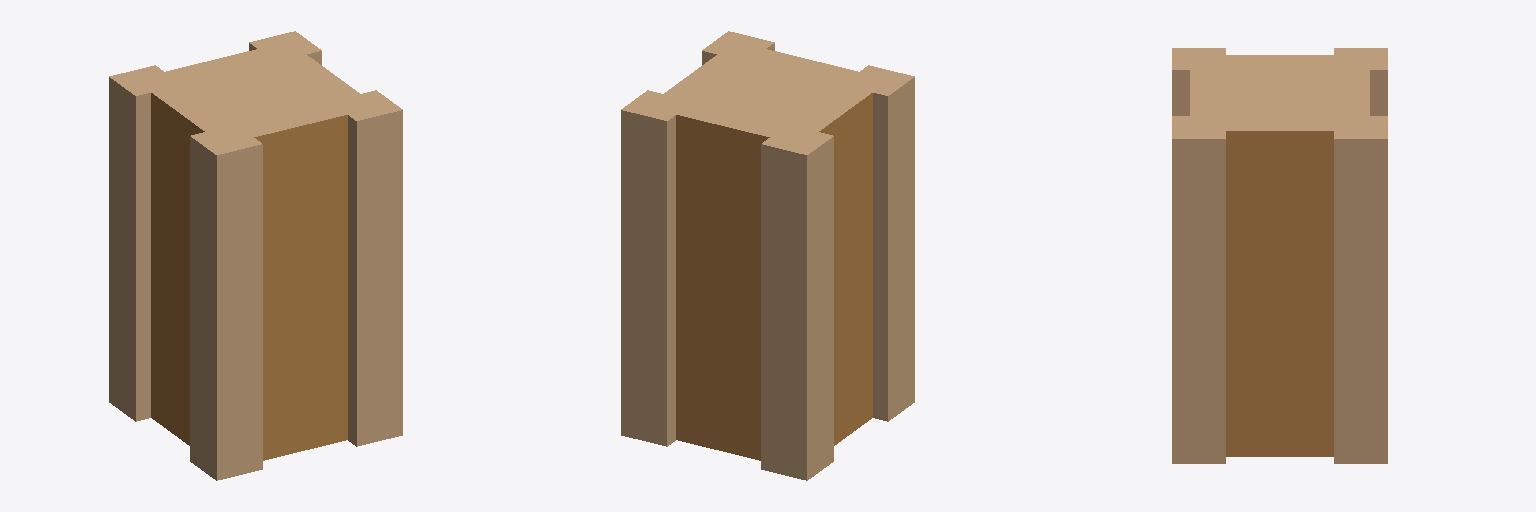
Rendered from Pillar_Large_Middle.obj.
The picture shows the model from 3 angles: view 1: azimuth 30°, elevation 25°; view 2: azimuth 150°, elevation 25°; view 3: azimuth 270°, elevation 25°; orthographic projection.
Visible parts, largest first — view 1: object1; view 2: object1; view 3: object1.
Part boxes in pixels (bbox=[...]): object1: bbox=[109, 31, 402, 480]; object1: bbox=[621, 31, 914, 480]; object1: bbox=[1172, 48, 1387, 463].
Bounding box in the file's own units: 0.6 × 1 × 0.6.